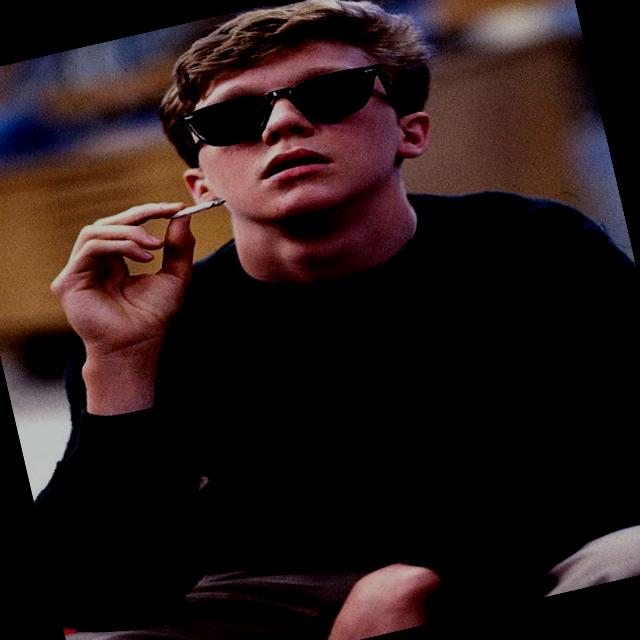smoke: (142, 187, 240, 226)
